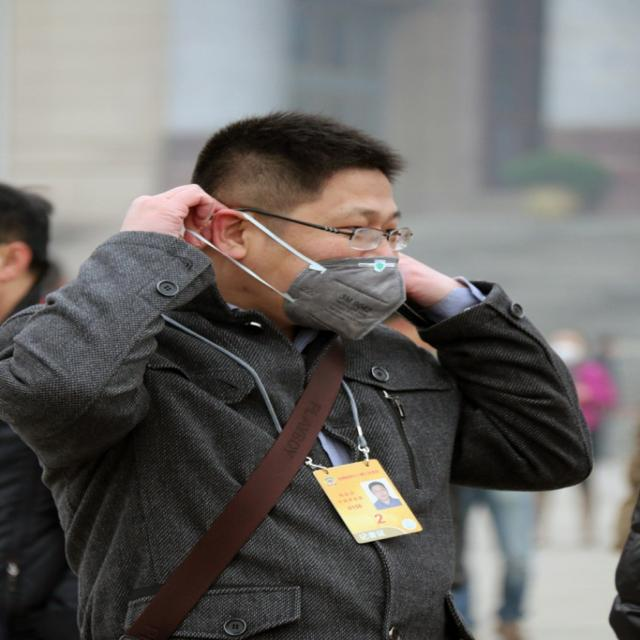mask: (263, 162, 399, 328)
